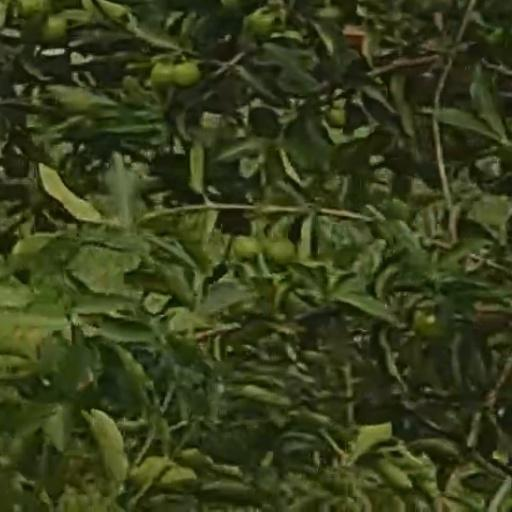acerola_verde: (150, 61, 172, 91), (175, 62, 198, 87)
